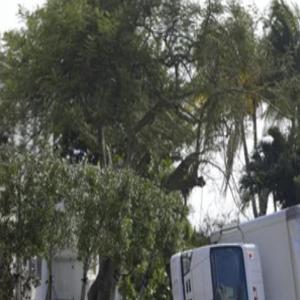severe: (164, 195, 300, 300)
